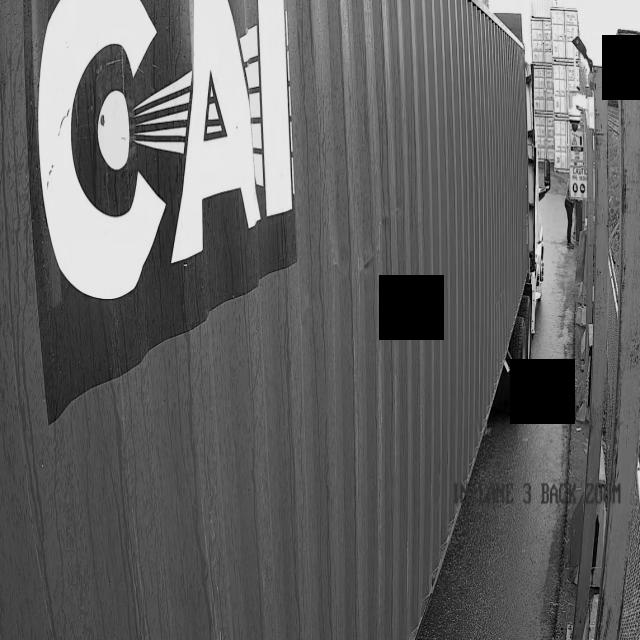container_company_logo: (11, 0, 380, 339)
truck_with_container: (0, 0, 540, 640)
